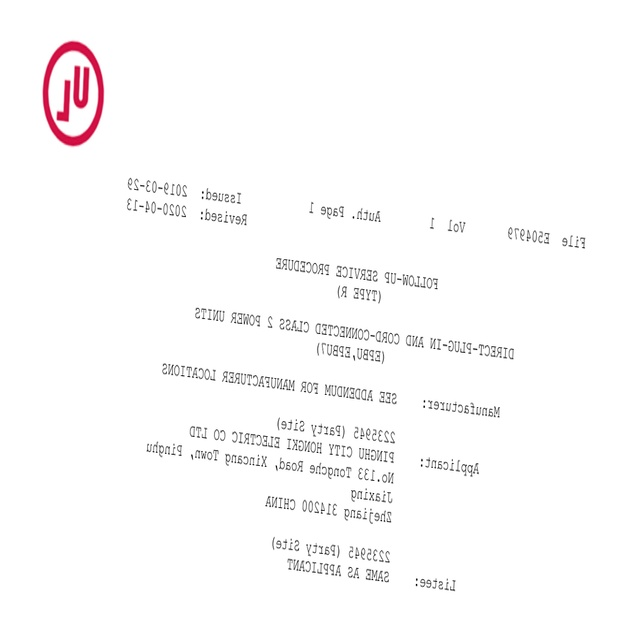ul: (42, 40, 102, 144)
